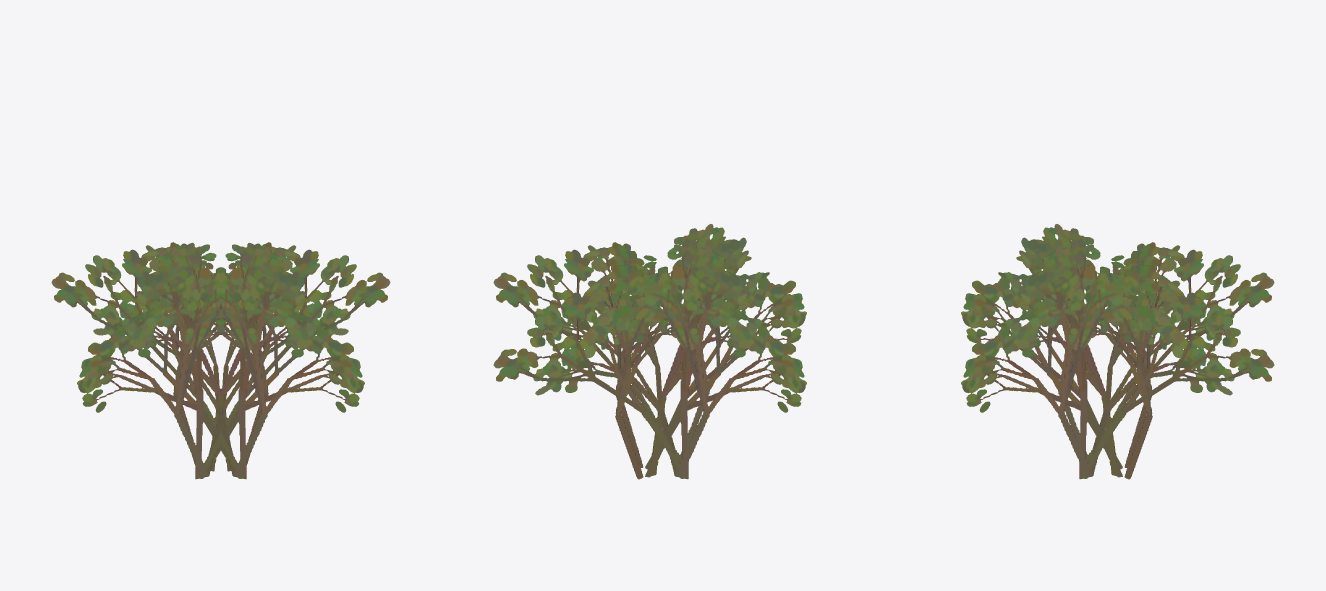
File: bush.glb
The picture shows the model from 3 angles, left to right: view 1: azimuth 30°, elevation 25°; view 2: azimuth 150°, elevation 25°; view 3: azimuth 270°, elevation 25°; orthographic projection.
Parts seen in each view (by area): view 1: bush; view 2: bush; view 3: bush.
Part boxes in pixels (x1,y1,x2,y2): bush: (51, 242, 390, 479); bush: (493, 224, 806, 479); bush: (961, 224, 1274, 479).
Size of the model in its own units: 1.2 by 1 by 1.04.
Materials: 1 (1 with a texture image).
